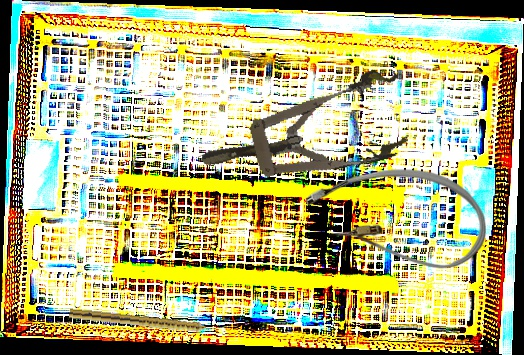Cannula: (305, 169, 486, 270)
Handpiece: (68, 308, 220, 337)
Speculum: (191, 64, 417, 203)
